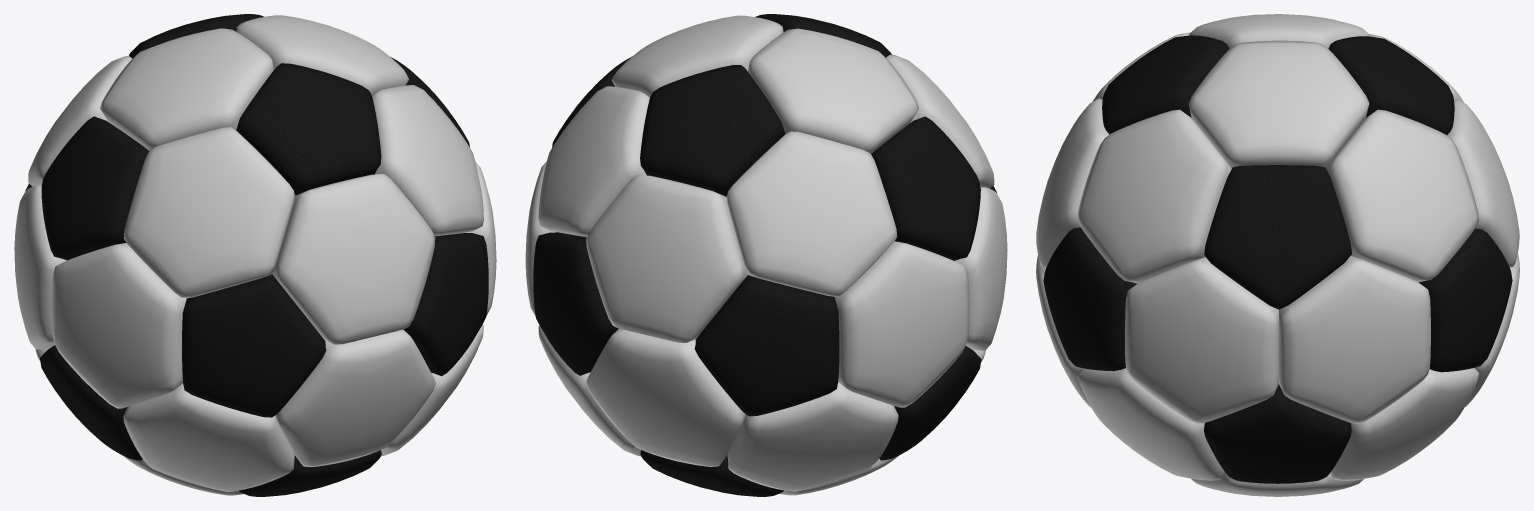
3 renders of one model, left to right at view 1: azimuth 30°, elevation 25°; view 2: azimuth 150°, elevation 25°; view 3: azimuth 270°, elevation 25°, orthographic.
Visible parts, largest first — view 1: Hedra001_0; view 2: Hedra001_0; view 3: Hedra001_0.
Boxes of the visible parts, x1=… form: Hedra001_0: x1=14, y1=14, x2=496, y2=496; Hedra001_0: x1=525, y1=14, x2=1007, y2=496; Hedra001_0: x1=1036, y1=14, x2=1519, y2=496.
Bounding box in the file's own units: 52.34 × 52.32 × 52.35.
